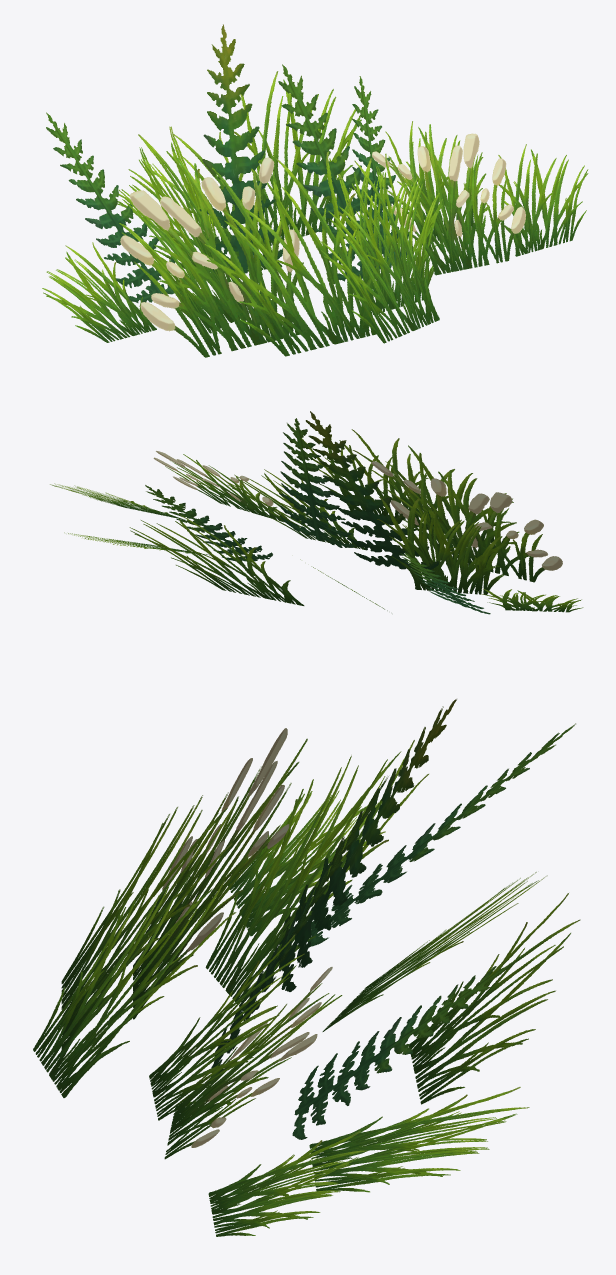
File: 2_Plant_Cao_04.FBX
The picture shows the model from 3 angles, top to bottom: view 1: azimuth 30°, elevation 25°; view 2: azimuth 150°, elevation 25°; view 3: azimuth 270°, elevation 25°; orthographic projection. The views are drawn at different scales.
Visible parts, largest first — view 1: 2_Plant_Cao_04; view 2: 2_Plant_Cao_04; view 3: 2_Plant_Cao_04.
Part boxes in pixels (x1,y1,x2,y2): 2_Plant_Cao_04: [42, 24, 588, 357]; 2_Plant_Cao_04: [50, 411, 583, 614]; 2_Plant_Cao_04: [33, 699, 580, 1236].
Size of the model in its own units: 350 by 144 by 206.
